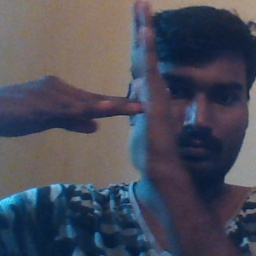Z: (64, 2, 183, 182)
